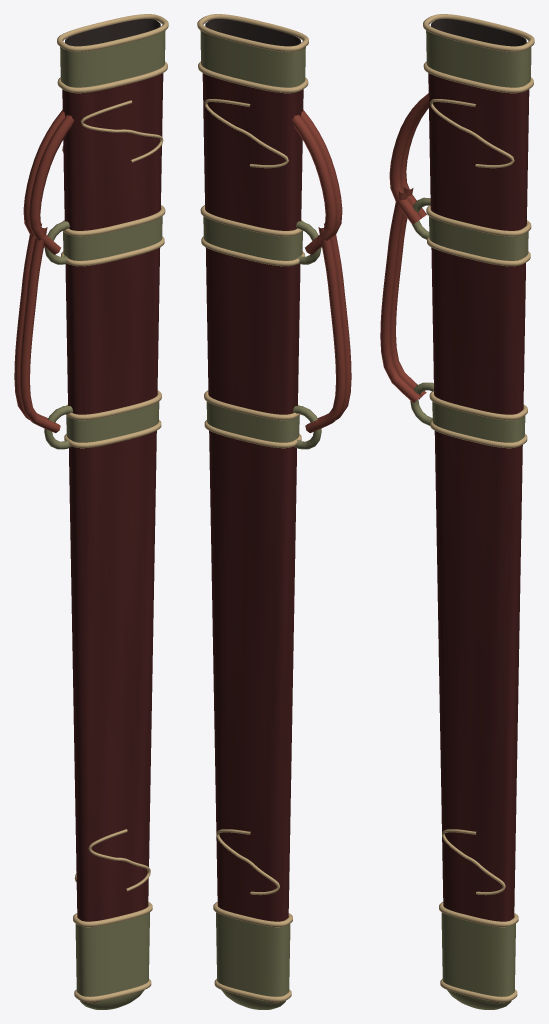
Rendered from PilgrimScabbard.glb.
3 views of the same model, side by side, from view 1: azimuth 30°, elevation 25°; view 2: azimuth 150°, elevation 25°; view 3: azimuth 330°, elevation 25° (orthographic).
Visible parts, largest first — view 1: PilgrimScabbard; view 2: PilgrimScabbard; view 3: PilgrimScabbard.
Boxes of the visible parts, x1,y1,x2,y2 form: PilgrimScabbard: (14, 14, 168, 1009); PilgrimScabbard: (197, 14, 351, 1009); PilgrimScabbard: (380, 14, 534, 1009).
Size of the model in its own units: 0.1908 by 1.22 by 0.0557.
